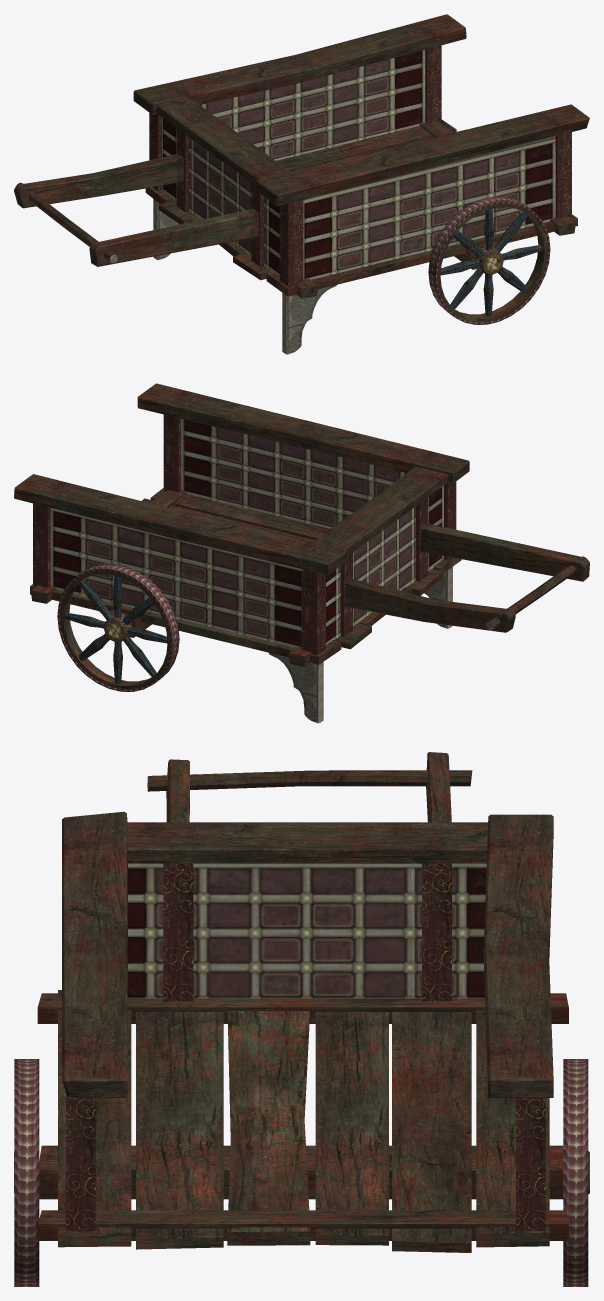
Rendered from TW2_9_ADDONS_02_3-transformed.glb.
3 views of the same model, one above another, from view 1: azimuth 30°, elevation 25°; view 2: azimuth 150°, elevation 25°; view 3: azimuth 270°, elevation 25° (orthographic). The views are drawn at different scales.
Parts seen in each view (by area): view 1: default; view 2: default; view 3: default.
Part boxes in pixels (<box>): default: <box>14,14,589,354</box>; default: <box>14,383,589,723</box>; default: <box>14,752,589,1286</box>.
Bounding box in the file's own units: 3.48 × 1.21 × 2.16.
Materials: 4 (4 with a texture image).
